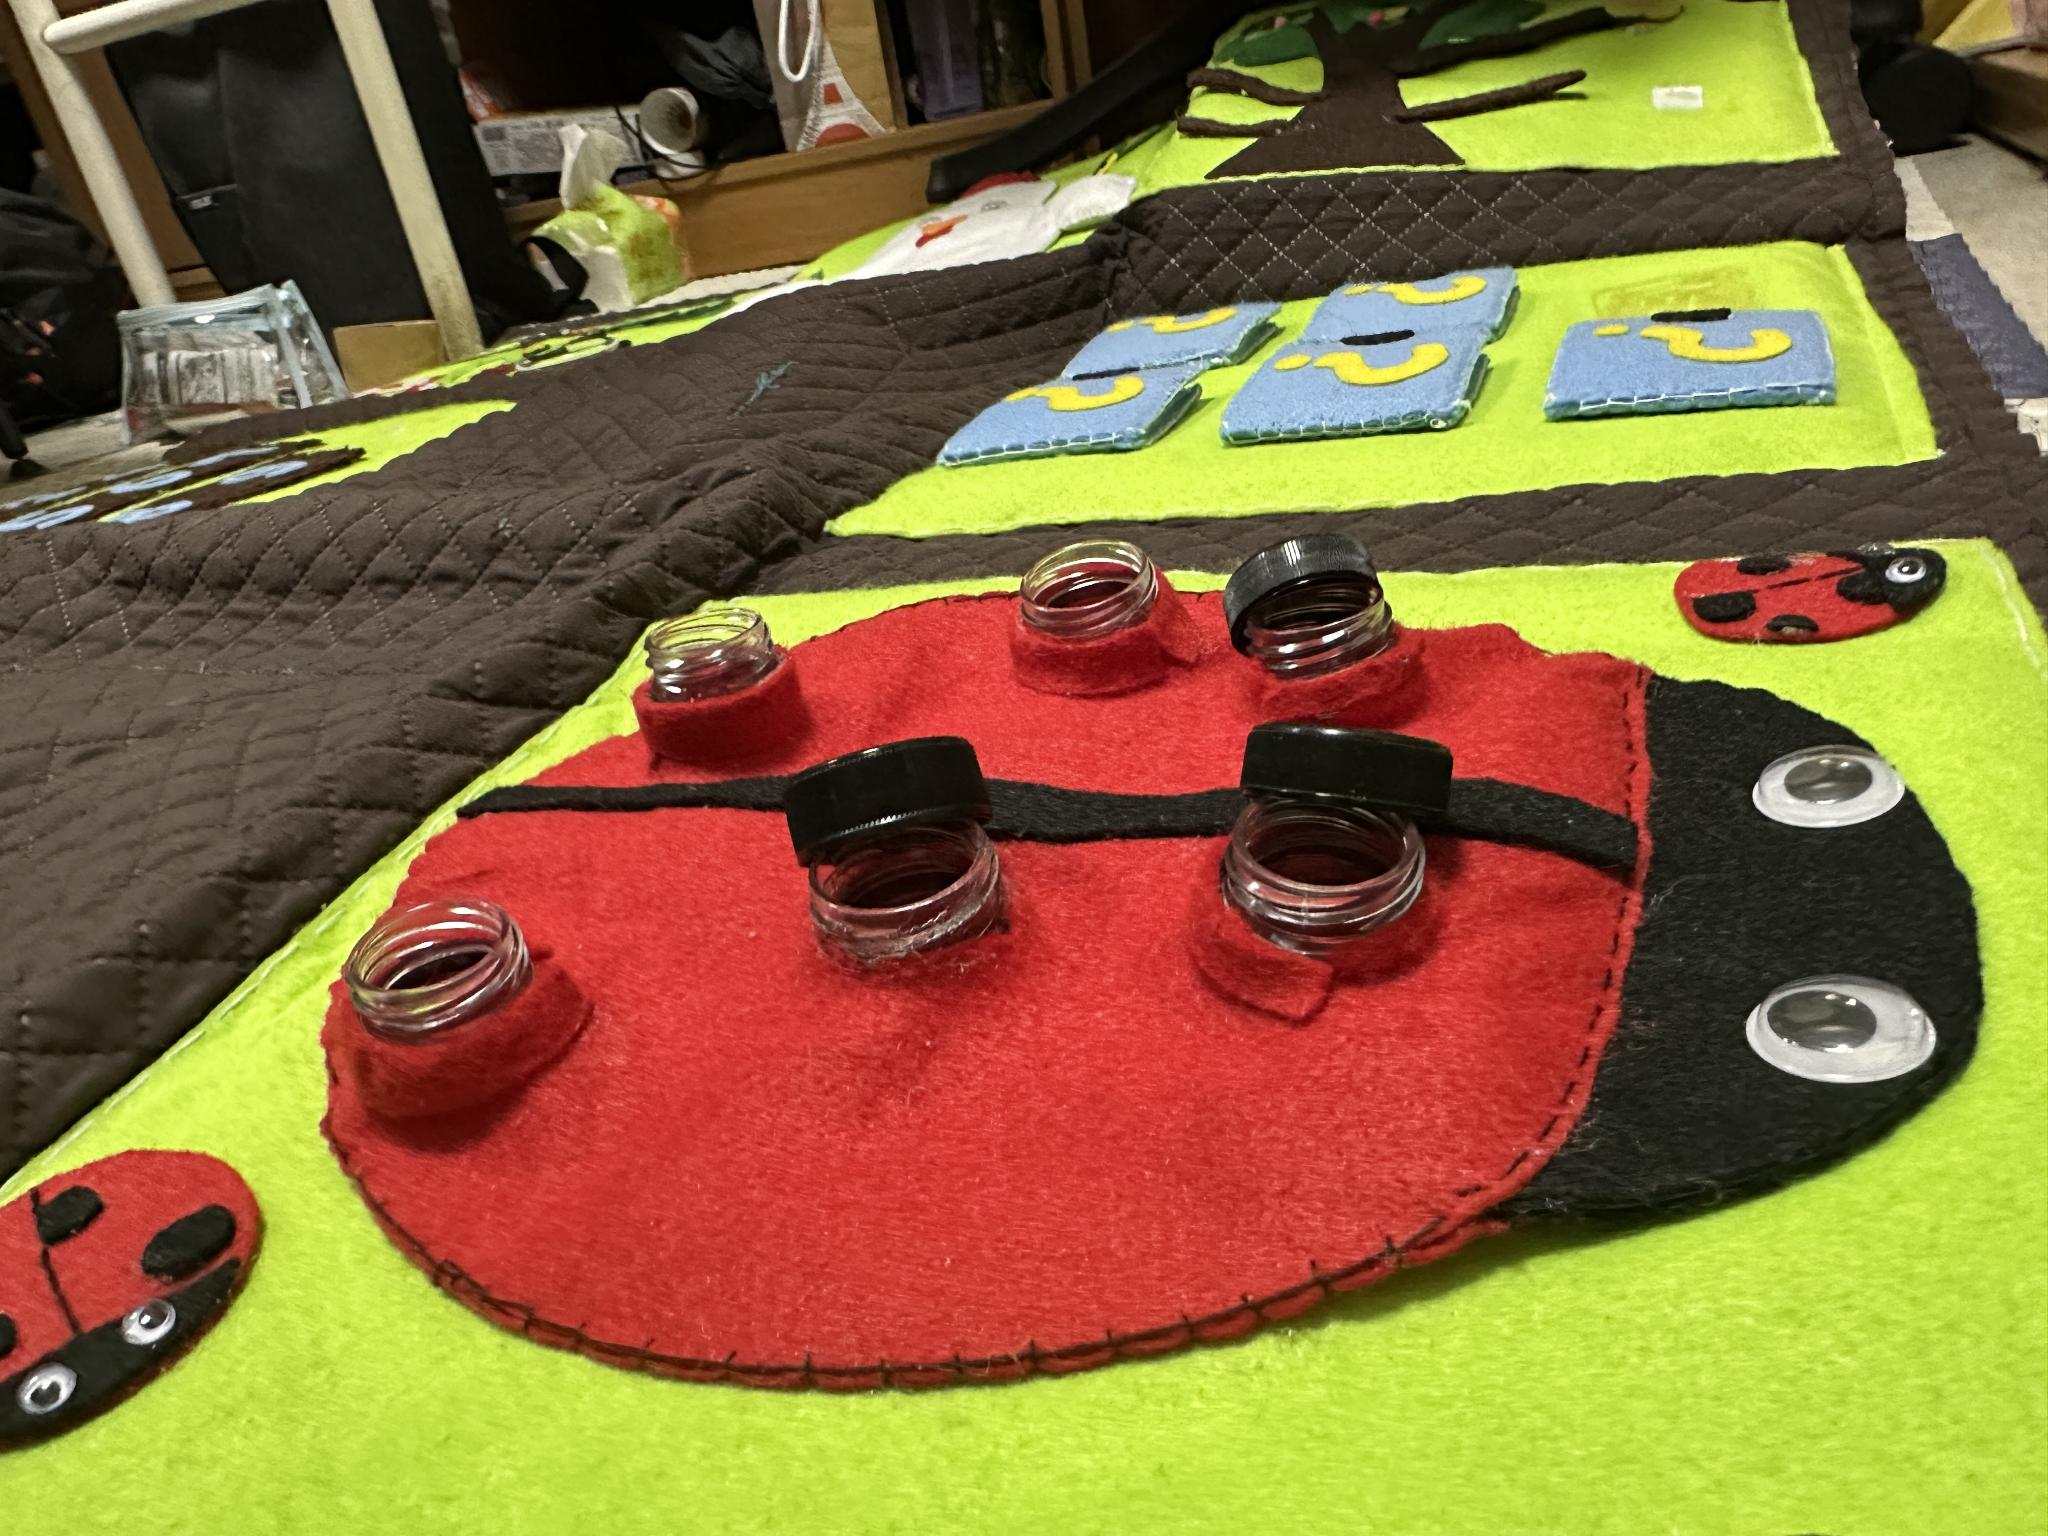cap_ng: (1200, 710, 1464, 1010), (772, 729, 1024, 1000), (1209, 520, 1426, 705)
